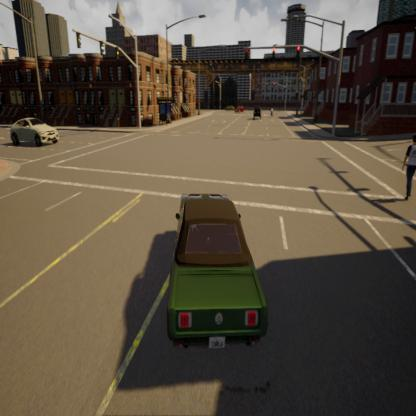Cars: (162, 188, 274, 356), (9, 113, 63, 152), (252, 102, 266, 122), (233, 103, 246, 115)
Pedestrian: (388, 133, 416, 207)
